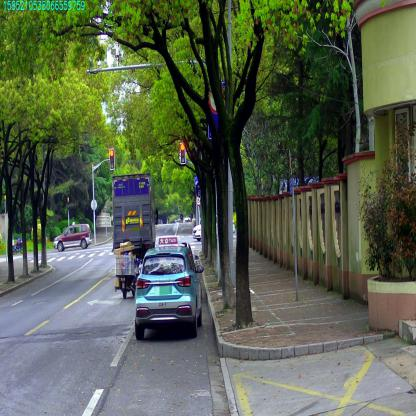traffic-light: (180, 142, 185, 164), (110, 148, 114, 169)
